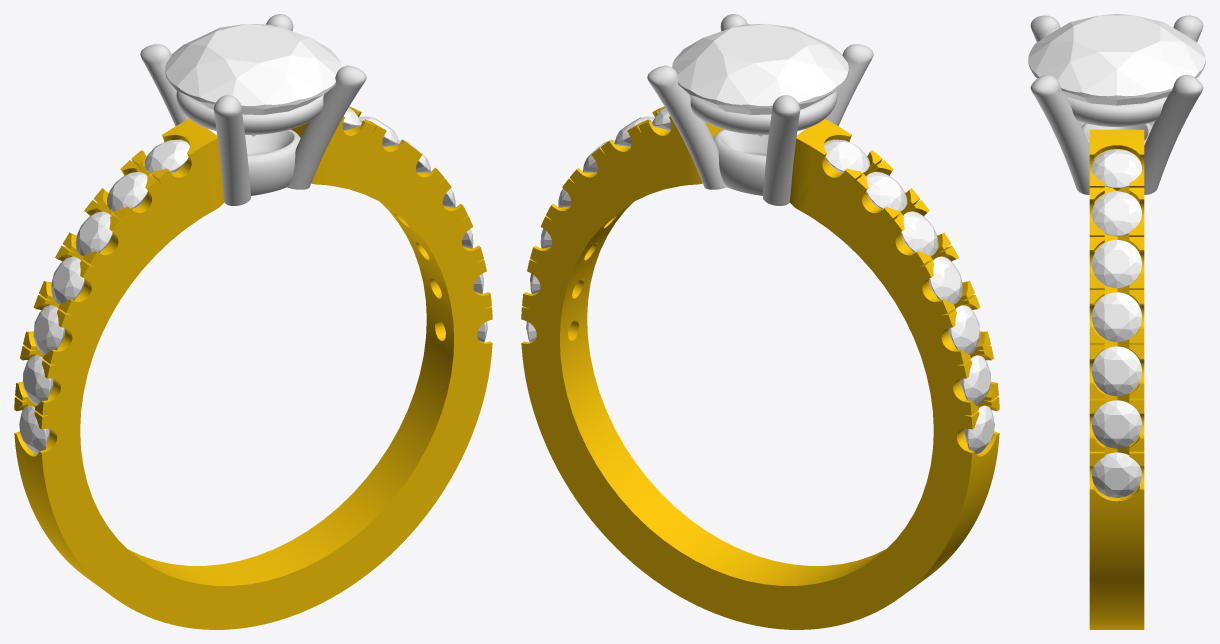
File: NateT_webgi.glb
The picture shows the model from 3 angles, left to right: view 1: azimuth 30°, elevation 25°; view 2: azimuth 150°, elevation 25°; view 3: azimuth 270°, elevation 25°; orthographic projection.
Parts seen in each view (by area): view 1: Nate_T_ring_for_3d_model, Nate_T_ring_for_3d_model003, Nate_T_ring_for_3d_model021, Nate_T_ring_for_3d_model016, Nate_T_ring_for_3d_model015, Nate_T_ring_for_3d_model017, Nate_T_ring_for_3d_model014, Nate_T_ring_for_3d_model018, Nate_T_ring_for_3d_model019, Nate_T_ring_for_3d_model020; view 2: Nate_T_ring_for_3d_model, Nate_T_ring_for_3d_model003, Nate_T_ring_for_3d_model021, Nate_T_ring_for_3d_model016, Nate_T_ring_for_3d_model015, Nate_T_ring_for_3d_model017, Nate_T_ring_for_3d_model014, Nate_T_ring_for_3d_model018, Nate_T_ring_for_3d_model019, Nate_T_ring_for_3d_model020; view 3: Nate_T_ring_for_3d_model, Nate_T_ring_for_3d_model021, Nate_T_ring_for_3d_model003, Nate_T_ring_for_3d_model010, Nate_T_ring_for_3d_model011, Nate_T_ring_for_3d_model012, Nate_T_ring_for_3d_model009, Nate_T_ring_for_3d_model013, Nate_T_ring_for_3d_model008, Nate_T_ring_for_3d_model007.
Part boxes in pixels (<box>): Nate_T_ring_for_3d_model: <box>14,106,492,629</box>; Nate_T_ring_for_3d_model003: <box>140,14,366,205</box>; Nate_T_ring_for_3d_model021: <box>165,23,341,136</box>; Nate_T_ring_for_3d_model016: <box>75,211,112,256</box>; Nate_T_ring_for_3d_model015: <box>107,172,147,211</box>; Nate_T_ring_for_3d_model017: <box>51,256,84,304</box>; Nate_T_ring_for_3d_model014: <box>144,139,189,172</box>; Nate_T_ring_for_3d_model018: <box>33,305,64,354</box>; Nate_T_ring_for_3d_model019: <box>23,355,53,404</box>; Nate_T_ring_for_3d_model020: <box>19,405,49,454</box>; Nate_T_ring_for_3d_model: <box>521,106,999,629</box>; Nate_T_ring_for_3d_model003: <box>647,14,873,205</box>; Nate_T_ring_for_3d_model021: <box>672,23,848,136</box>; Nate_T_ring_for_3d_model016: <box>901,211,938,256</box>; Nate_T_ring_for_3d_model015: <box>866,172,906,211</box>; Nate_T_ring_for_3d_model017: <box>929,256,962,304</box>; Nate_T_ring_for_3d_model014: <box>824,139,869,172</box>; Nate_T_ring_for_3d_model018: <box>949,305,980,354</box>; Nate_T_ring_for_3d_model019: <box>960,355,990,404</box>; Nate_T_ring_for_3d_model020: <box>964,405,994,454</box>; Nate_T_ring_for_3d_model: <box>1089,129,1144,629</box>; Nate_T_ring_for_3d_model021: <box>1028,14,1205,105</box>; Nate_T_ring_for_3d_model003: <box>1030,15,1203,194</box>; Nate_T_ring_for_3d_model010: <box>1092,292,1141,342</box>; Nate_T_ring_for_3d_model011: <box>1092,346,1141,396</box>; Nate_T_ring_for_3d_model012: <box>1092,400,1141,448</box>; Nate_T_ring_for_3d_model009: <box>1092,240,1141,288</box>; Nate_T_ring_for_3d_model013: <box>1092,452,1141,497</box>; Nate_T_ring_for_3d_model008: <box>1092,191,1141,236</box>; Nate_T_ring_for_3d_model007: <box>1092,149,1141,188</box>.
Bounding box in the file's own units: 2.51 × 3 × 0.8431.
